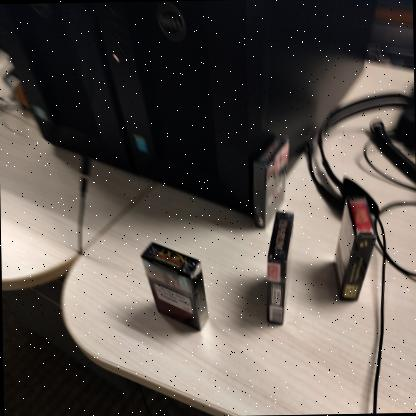bungkus rokok: (138, 230, 212, 343), (314, 191, 380, 309), (254, 207, 300, 331), (244, 134, 296, 234)
